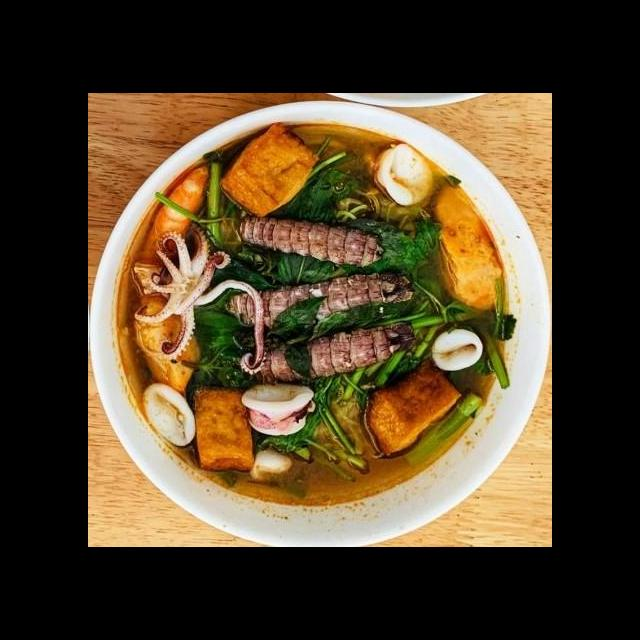dau hu: (177, 357, 283, 462), (420, 218, 524, 322), (160, 192, 254, 258)
muc: (261, 134, 424, 270), (433, 369, 505, 438), (198, 241, 260, 320), (188, 140, 260, 202), (263, 424, 316, 484)
tom: (366, 136, 481, 217)
tom tit: (306, 222, 376, 415), (250, 236, 322, 420), (370, 220, 431, 388)
